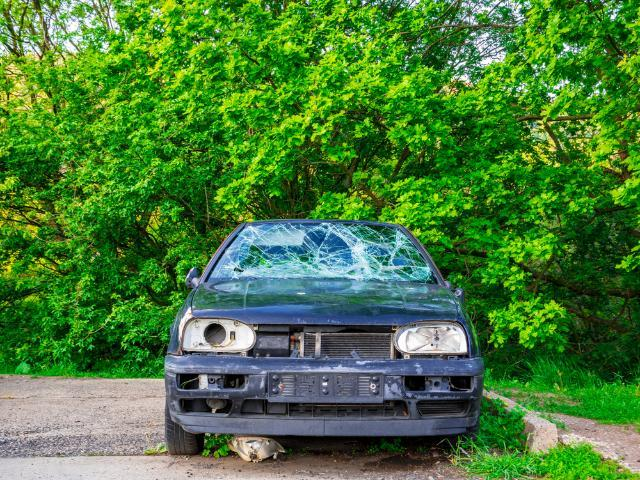glass shatter: (210, 223, 440, 284)
lamp broken: (183, 319, 255, 353), (395, 324, 468, 356)
no part: (242, 326, 409, 361)
